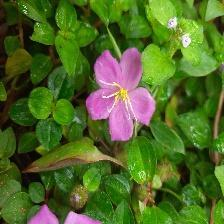malabar melastome: (86, 47, 159, 150)
